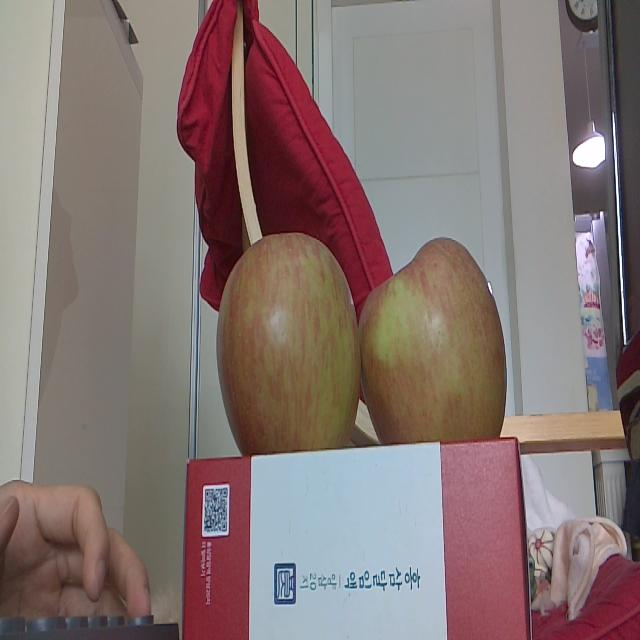apple: (215, 235, 361, 455), (364, 231, 508, 447)
